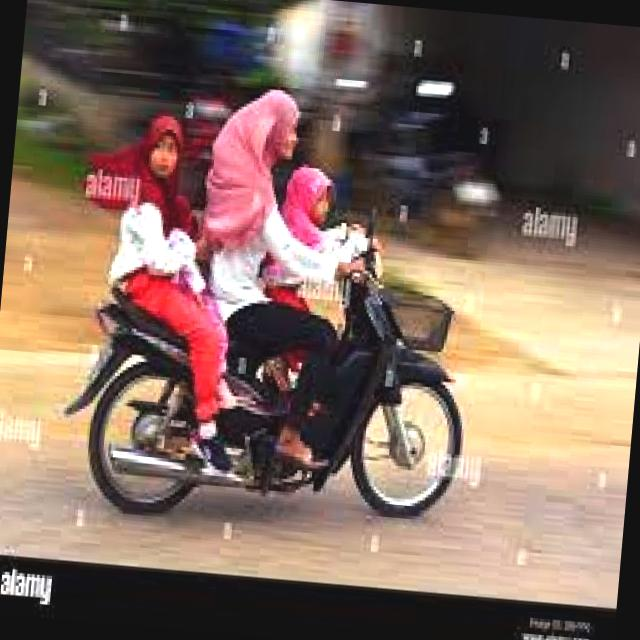motorcycle: (55, 192, 488, 542)
person: (186, 76, 328, 304), (96, 104, 229, 346), (252, 162, 385, 376)
rider_region: (56, 70, 494, 540)
